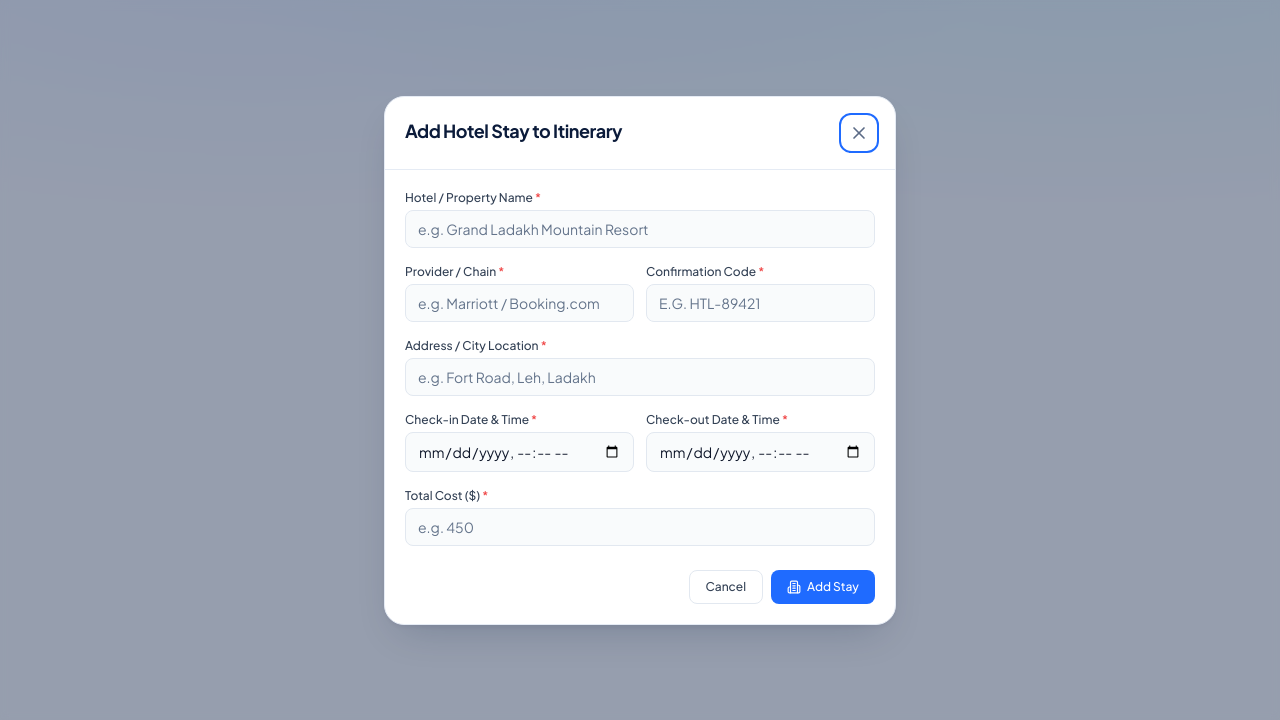
AddAccommodationModal › validates required fields on empty submit
The width and height of the screenshot is (1280, 720).
Expected: the field labelled "Hotel / Property Name *" is shown, [405, 210, 875, 248]
Step 1. Click the button "Add Stay" → (823, 586), box [771, 570, 875, 604]
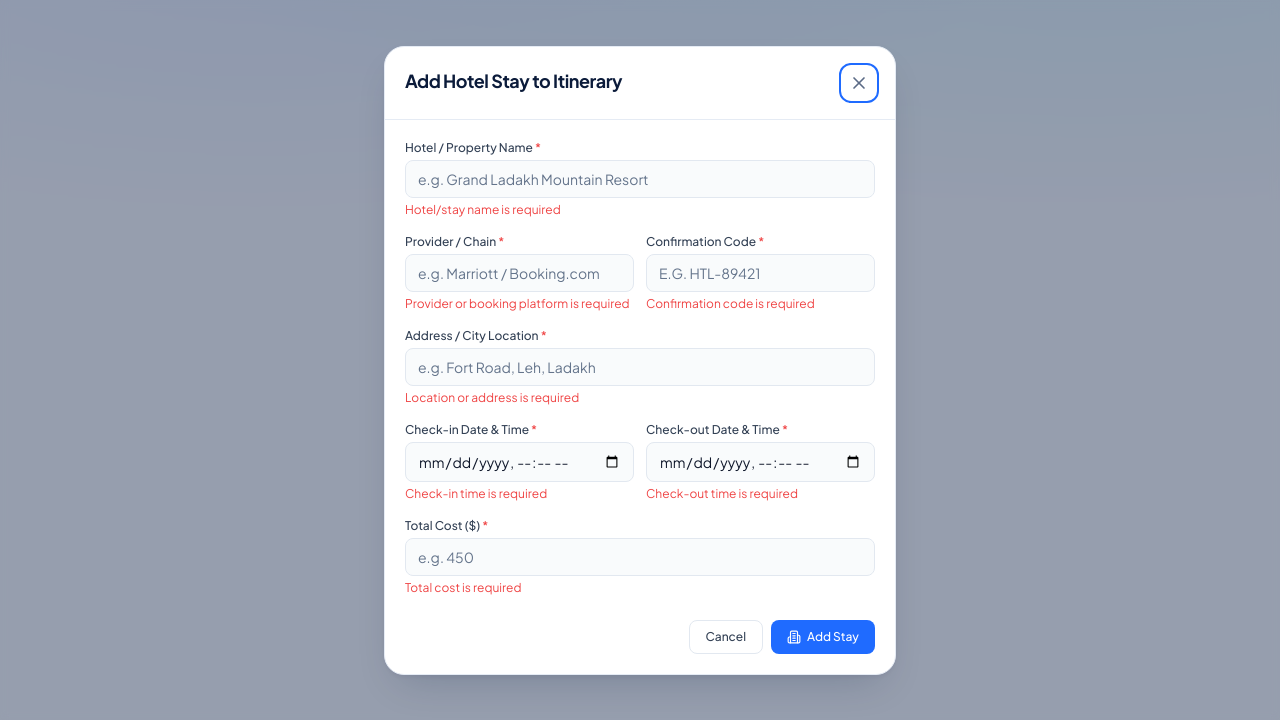
Result: the text "Hotel/stay name is required" is shown at [405, 202, 561, 216]
Result: the text "Provider or booking platform is required" is shown at [405, 296, 634, 312]
Result: the text "Confirmation code is required" is shown at [646, 296, 815, 310]
